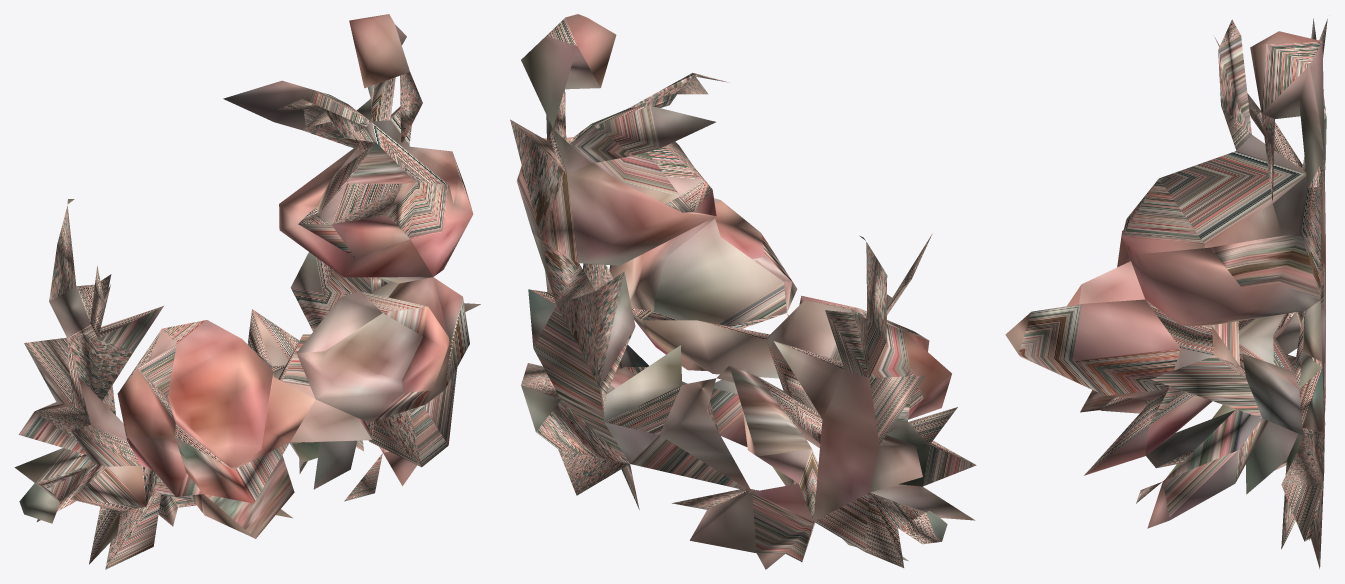
The picture shows the model from 3 angles, left to right: view 1: azimuth 30°, elevation 25°; view 2: azimuth 150°, elevation 25°; view 3: azimuth 270°, elevation 25°; orthographic projection. The views are drawn at different scales.
Visible parts, largest first — view 1: Rose-Spray-9-36; view 2: Rose-Spray-9-36; view 3: Rose-Spray-9-36.
Part boxes in pixels (<box>): Rose-Spray-9-36: <box>14,14,480,569</box>; Rose-Spray-9-36: <box>510,14,976,569</box>; Rose-Spray-9-36: <box>1005,18,1327,568</box>.
Bounding box in the file's own units: 0.2268 × 0.2435 × 0.1245.
1 material, 1 textured.
